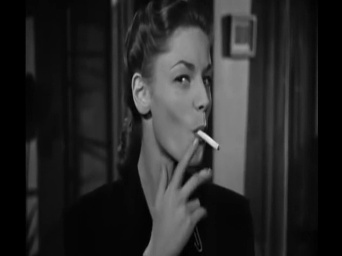smoke: (194, 125, 222, 150)
